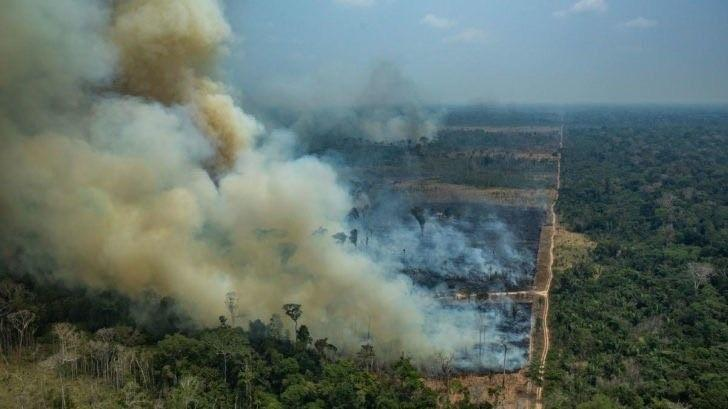smoke: (0, 0, 484, 388), (396, 209, 527, 288), (442, 293, 529, 370), (350, 75, 438, 141)
